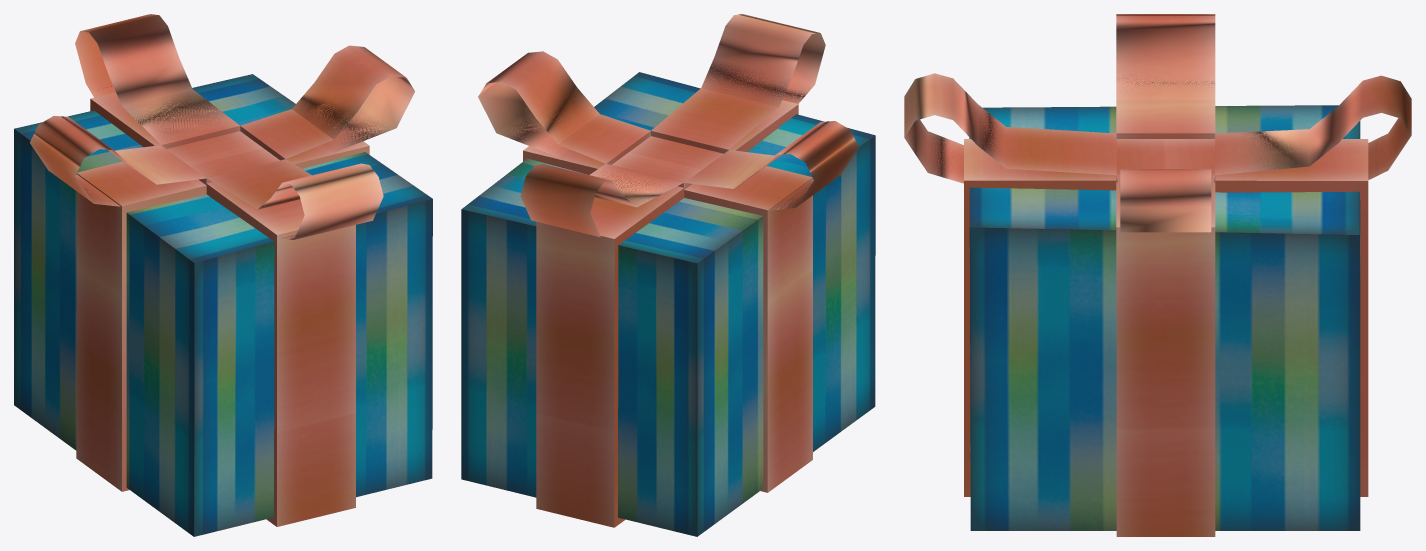
The model's file is GiftPack1.fbx.
The picture shows the model from 3 angles, left to right: view 1: azimuth 30°, elevation 25°; view 2: azimuth 150°, elevation 25°; view 3: azimuth 270°, elevation 25°; orthographic projection. The views are drawn at different scales.
Parts seen in each view (by area): view 1: Gift1; view 2: Gift1; view 3: Gift1.
Part boxes in pixels (x1,y1,x2,y2): Gift1: [14, 14, 432, 536]; Gift1: [461, 14, 875, 536]; Gift1: [904, 14, 1411, 536].
Size of the model in its own units: 6.96 by 6.87 by 8.25.
1 material, 1 textured.
